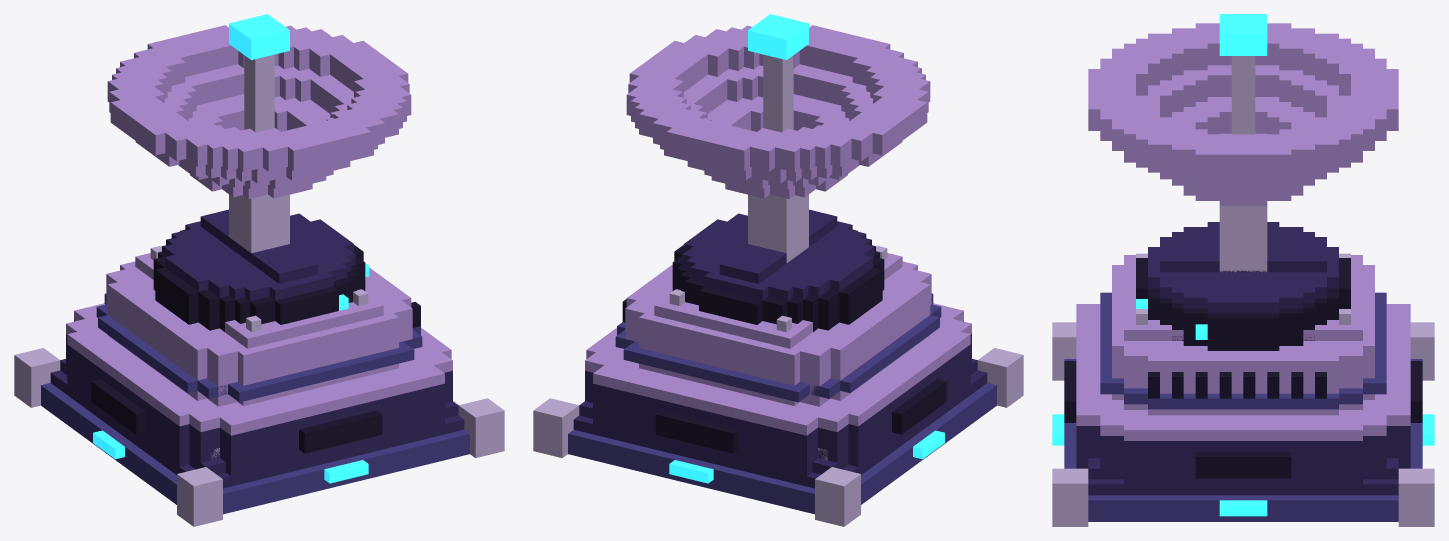
The model's file is sensor-dish.md.glb.
3 views of the same model, side by side, from view 1: azimuth 30°, elevation 25°; view 2: azimuth 150°, elevation 25°; view 3: azimuth 270°, elevation 25° (orthographic). The views are drawn at different scales.
Visible parts, largest first — view 1: sensor-dish.md; view 2: sensor-dish.md; view 3: sensor-dish.md.
Boxes of the visible parts, box(x1,y1,x2,y2) form: sensor-dish.md: box(14, 14, 504, 526); sensor-dish.md: box(533, 14, 1023, 526); sensor-dish.md: box(1052, 14, 1434, 526).
Bounding box in the file's own units: 2 × 2.44 × 2.
